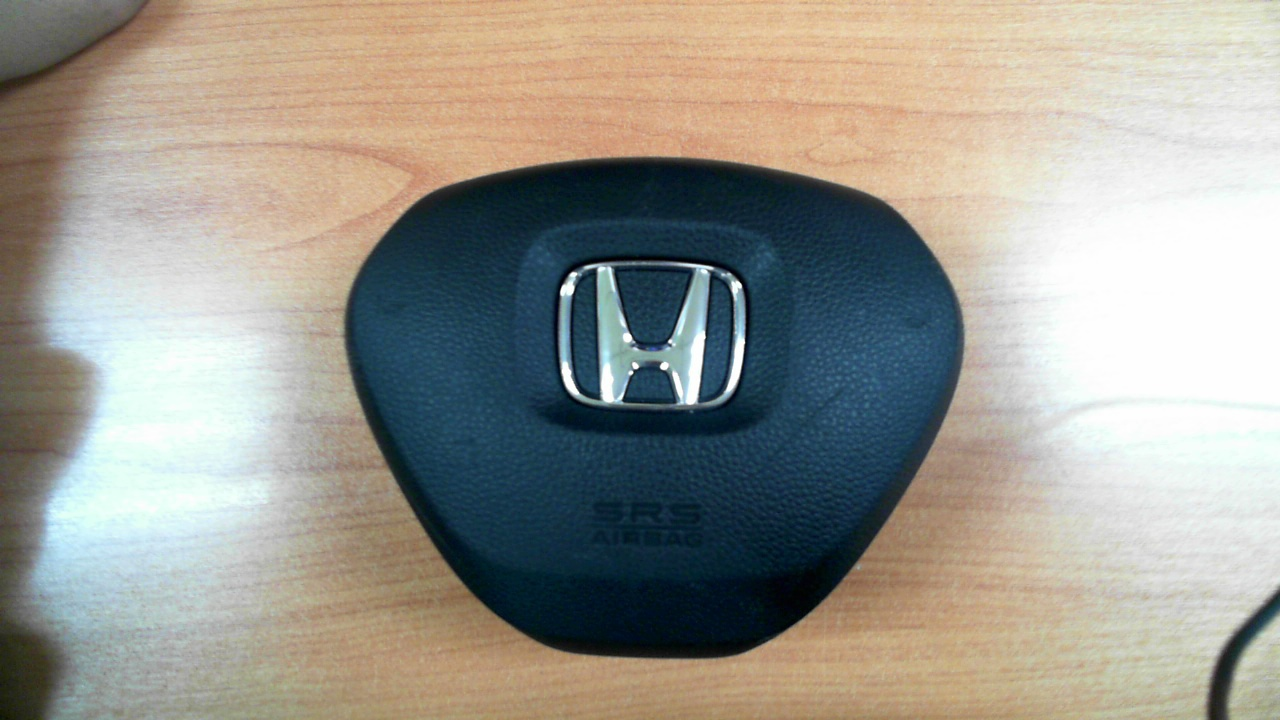Airbag: (343, 156, 966, 661)
Honda: (556, 260, 746, 406)
